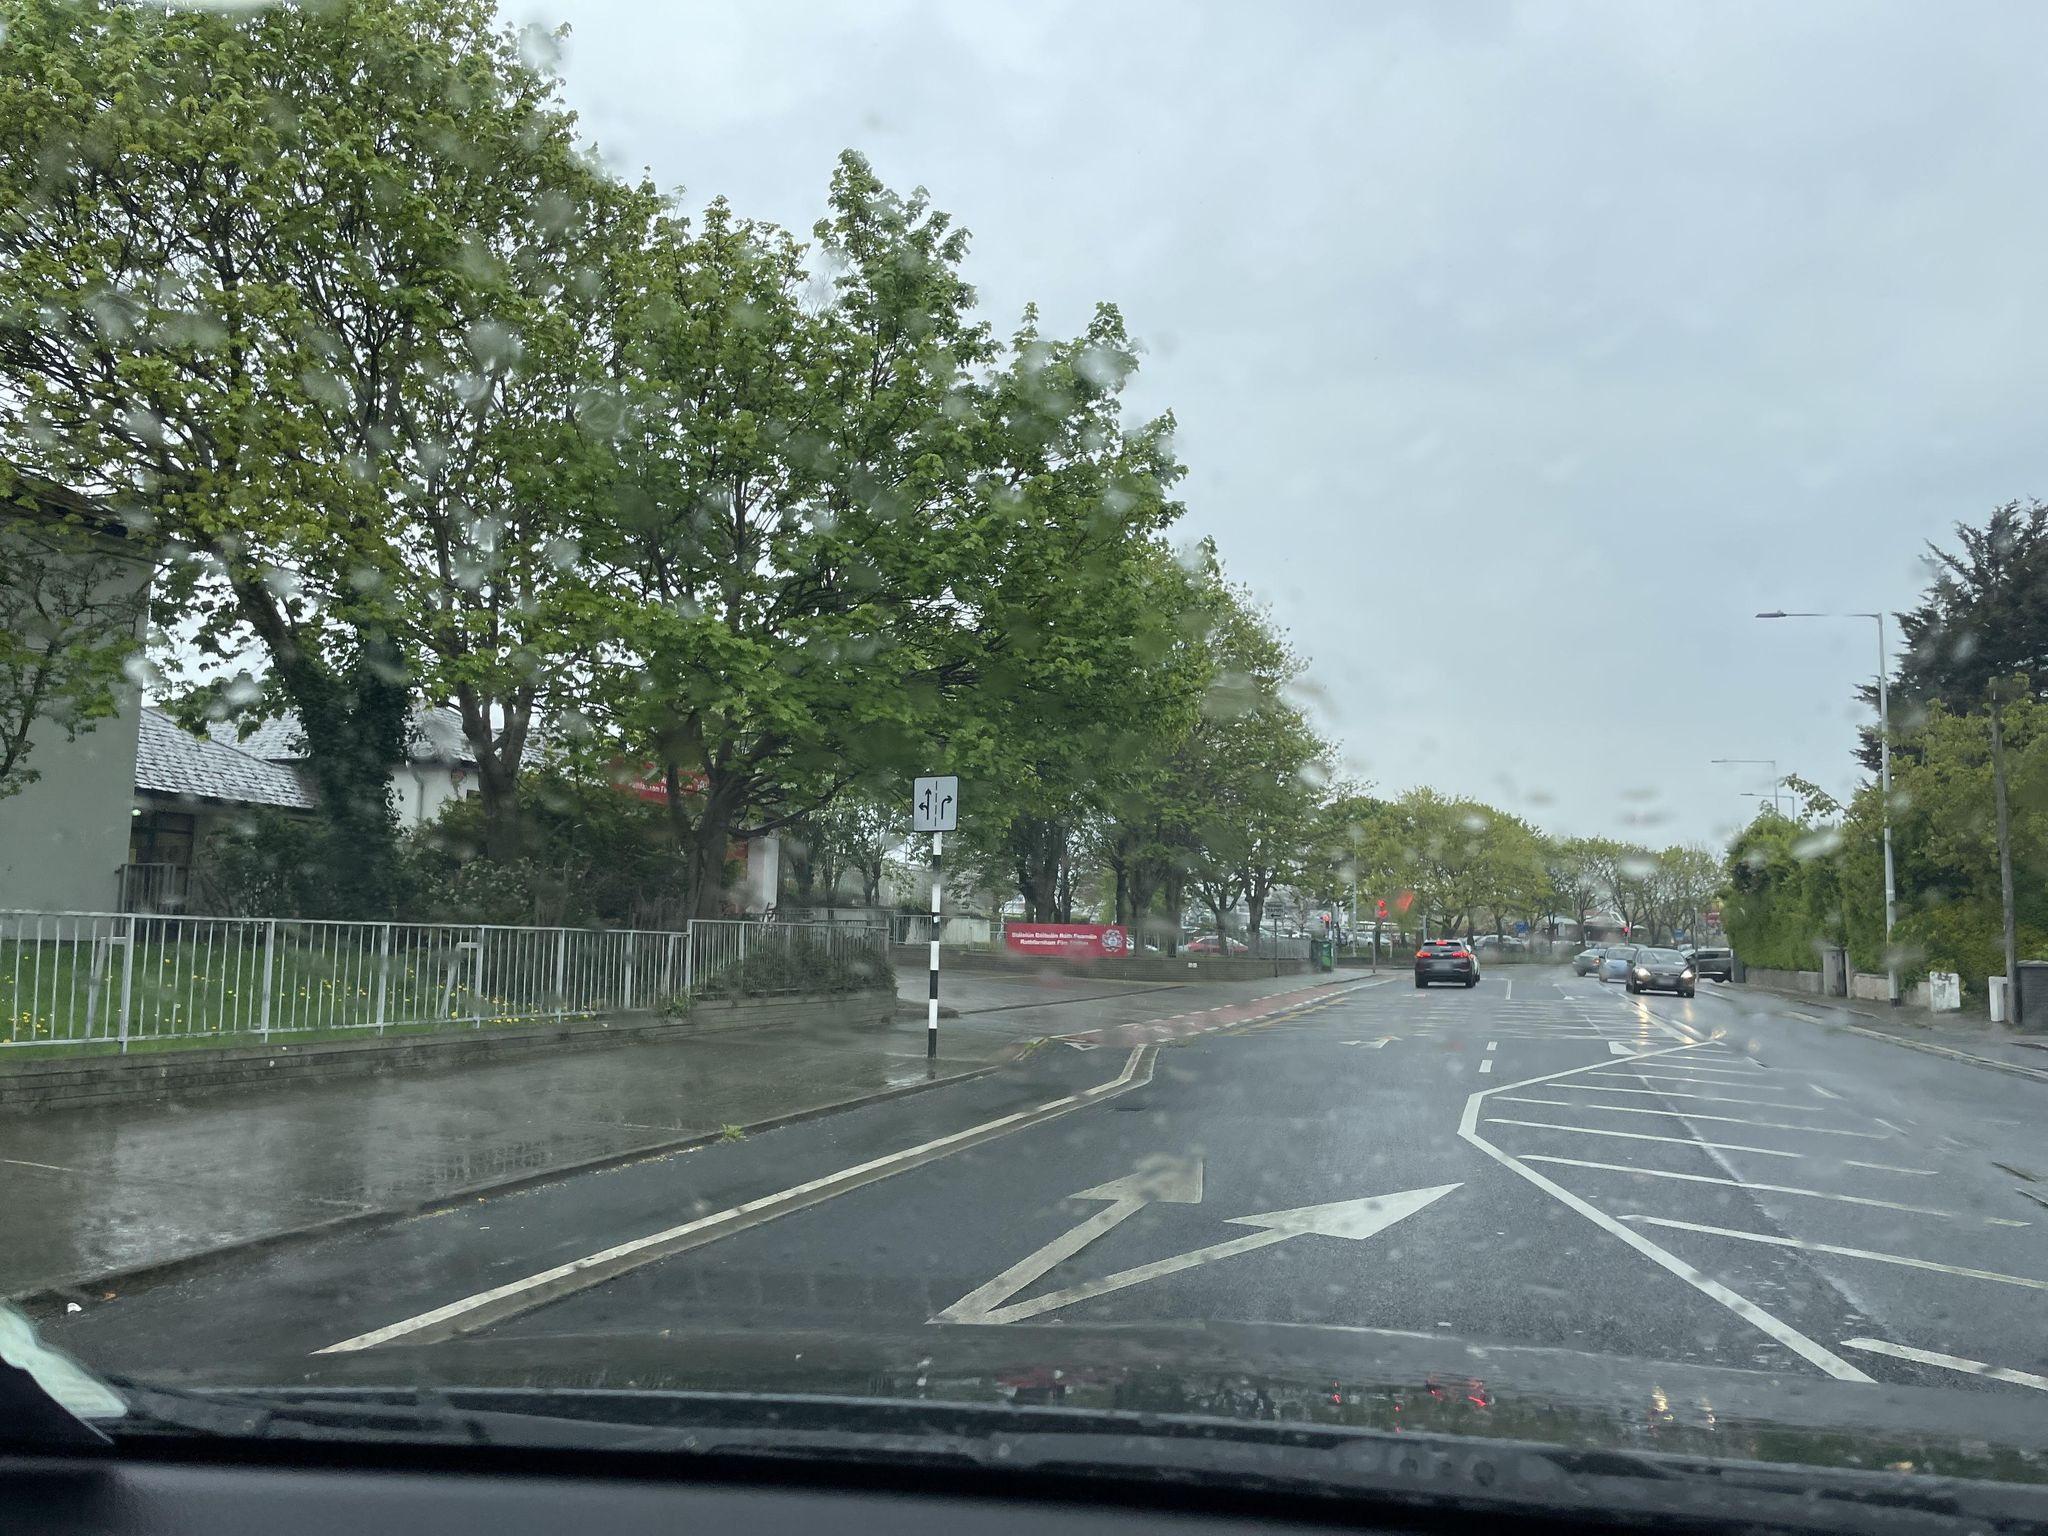vinyl banner: (1006, 910, 1135, 962)
